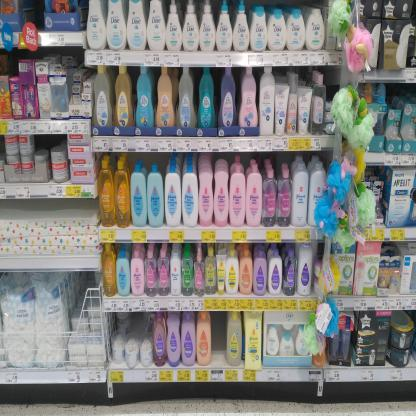Void: (1, 200, 98, 215), (211, 314, 224, 367), (33, 135, 67, 153), (3, 53, 17, 77)
